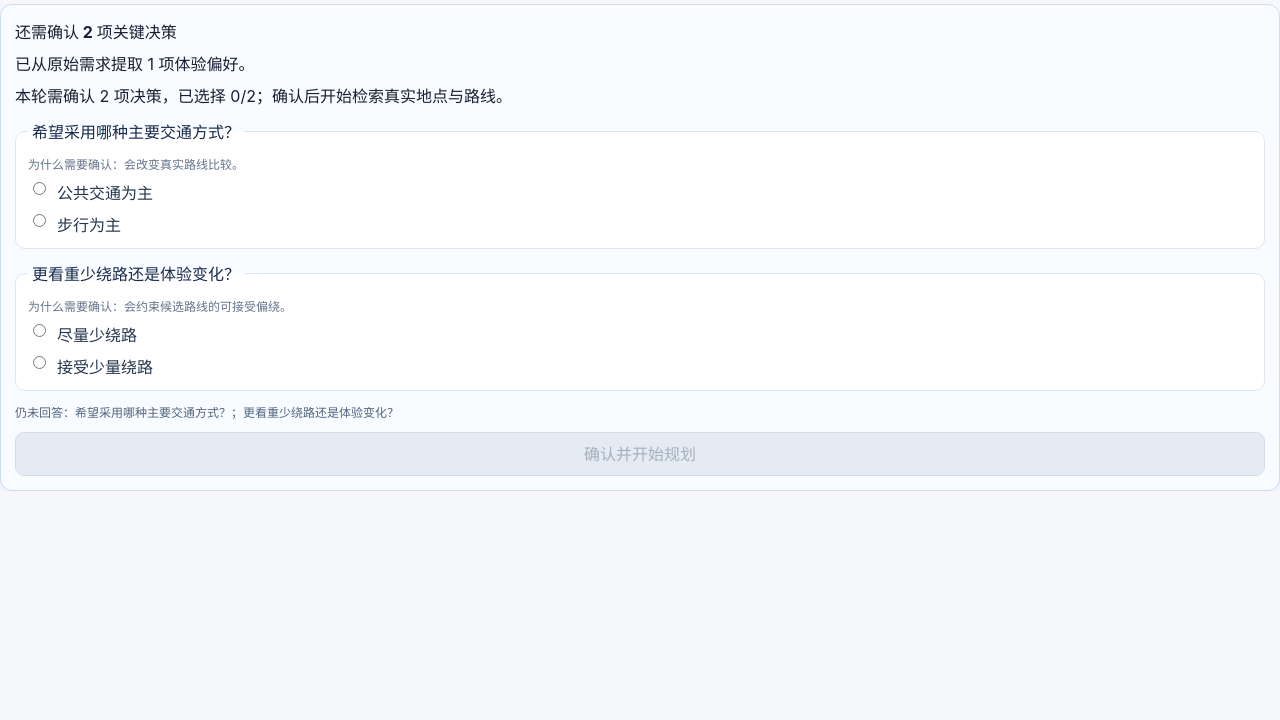
Test: AgentClarificationBatch › groups all questions and submits one opaque batch only after every answer is present
Expected: the button "确认并开始规划" is disabled, [15,432,1265,476]
Click the radio button labelled "公共交通为主" at (40, 188), box [33,182,46,195]
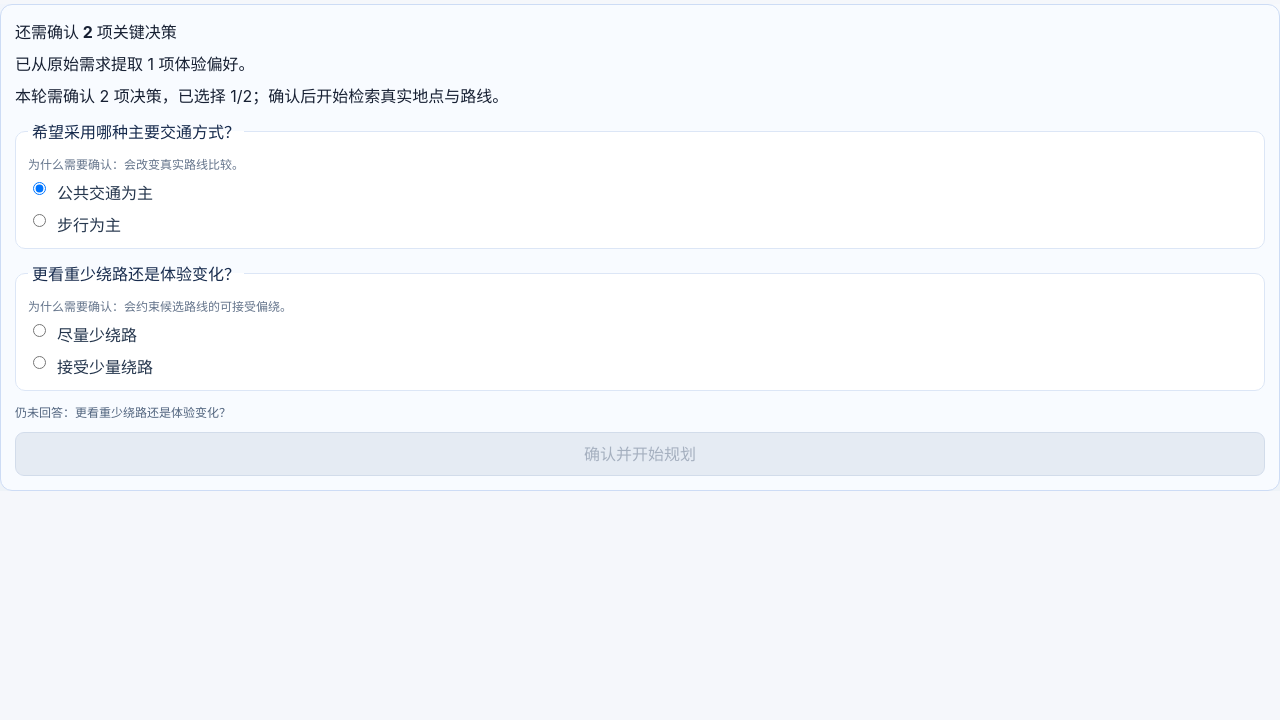
Expected: the button "确认并开始规划" is disabled, [15,432,1265,476]
Click the radio button labelled "尽量少绕路" at (40, 330), box [33,324,46,337]
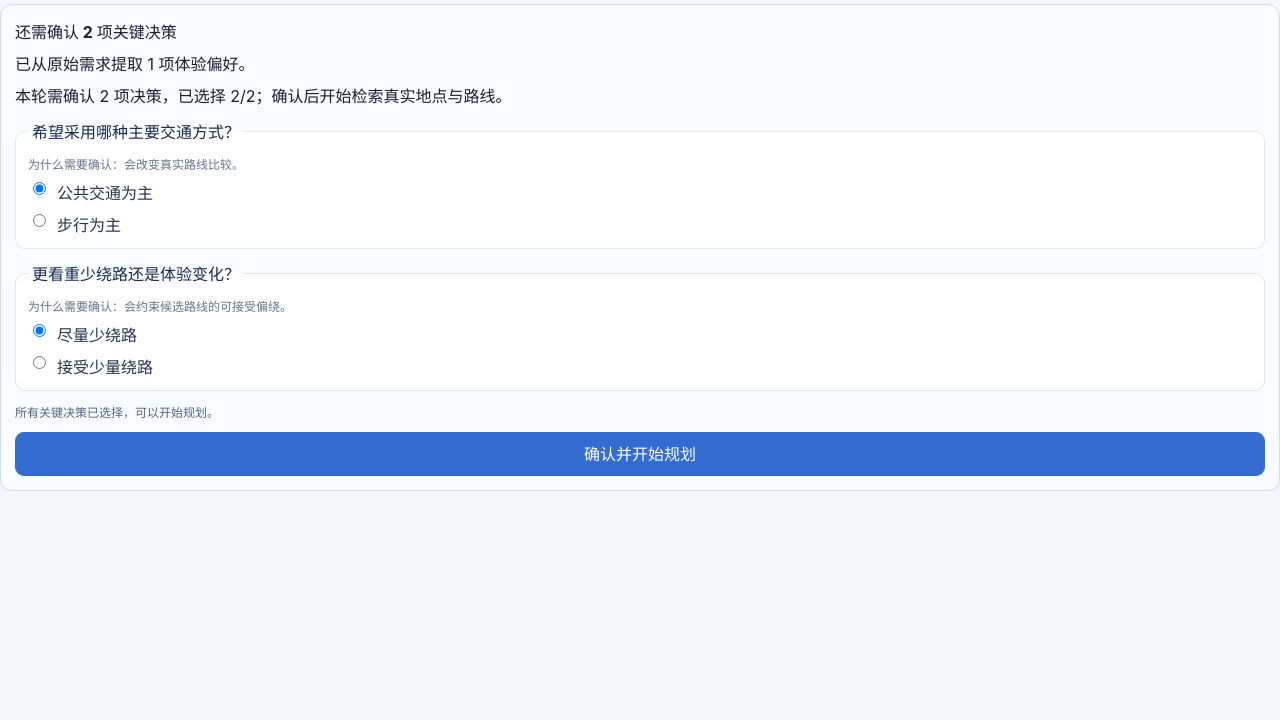
Result: the button "确认并开始规划" is enabled
Click the button "确认并开始规划" at (640, 454), box [15,432,1265,476]
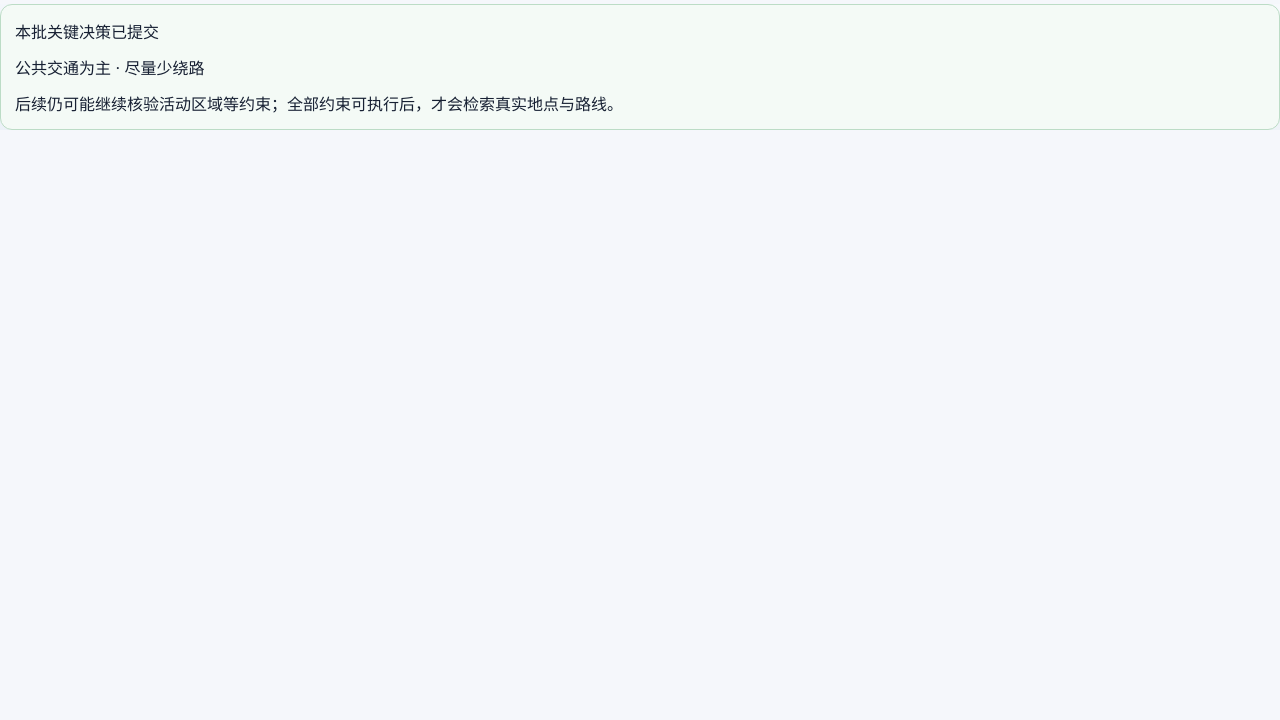
Result: the element named "已提交的关键决策" shows "本批关键决策已提交" at [15,22,159,42]
Result: the element named "已提交的关键决策" shows "公共交通为主 · 尽量少绕路" at [15,58,205,78]
Result: the element named "已提交的关键决策" shows "后续仍可能继续核验活动区域等约束；全部约束可执行后，才会检索真实地点与路线。" at [15,94,623,114]
